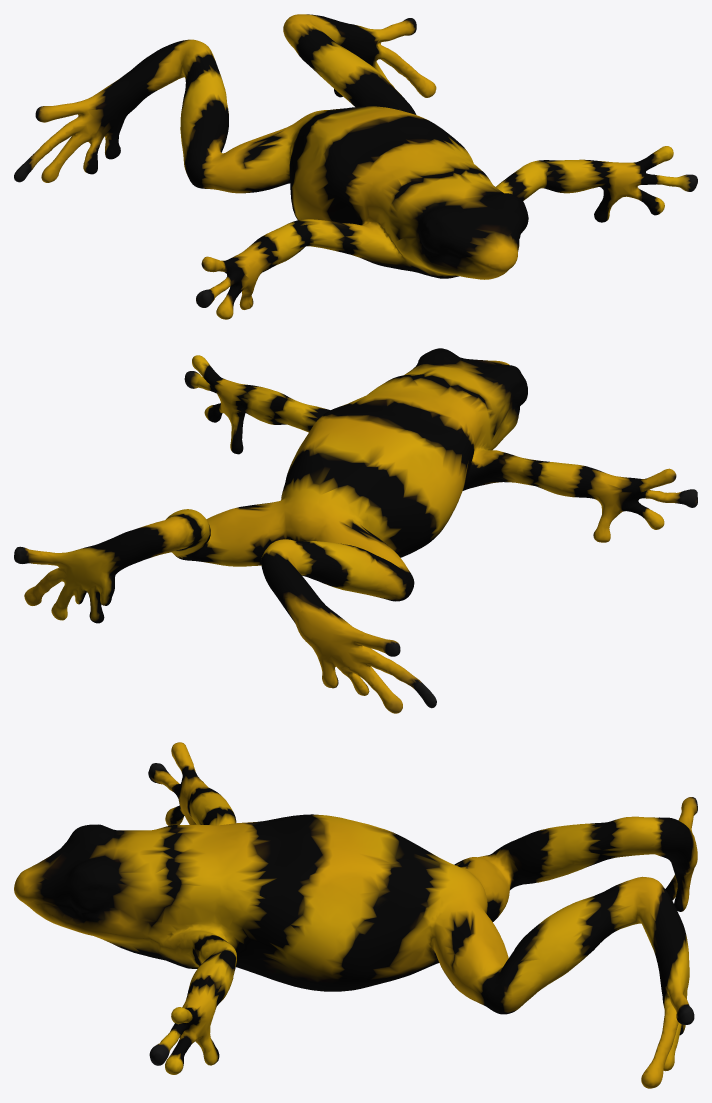
Rendered from leucomelas.swim.glb.
The picture shows the model from 3 angles, top to bottom: view 1: azimuth 30°, elevation 25°; view 2: azimuth 150°, elevation 25°; view 3: azimuth 270°, elevation 25°; orthographic projection. The views are drawn at different scales.
Visible parts, largest first — view 1: leucomelas.swim; view 2: leucomelas.swim; view 3: leucomelas.swim.
Boxes of the visible parts, bbox=[...] form: leucomelas.swim: bbox=[14, 14, 697, 319]; leucomelas.swim: bbox=[14, 348, 697, 713]; leucomelas.swim: bbox=[14, 742, 697, 1088].
Size of the model in its own units: 0.0656 by 0.0164 by 0.0661.
